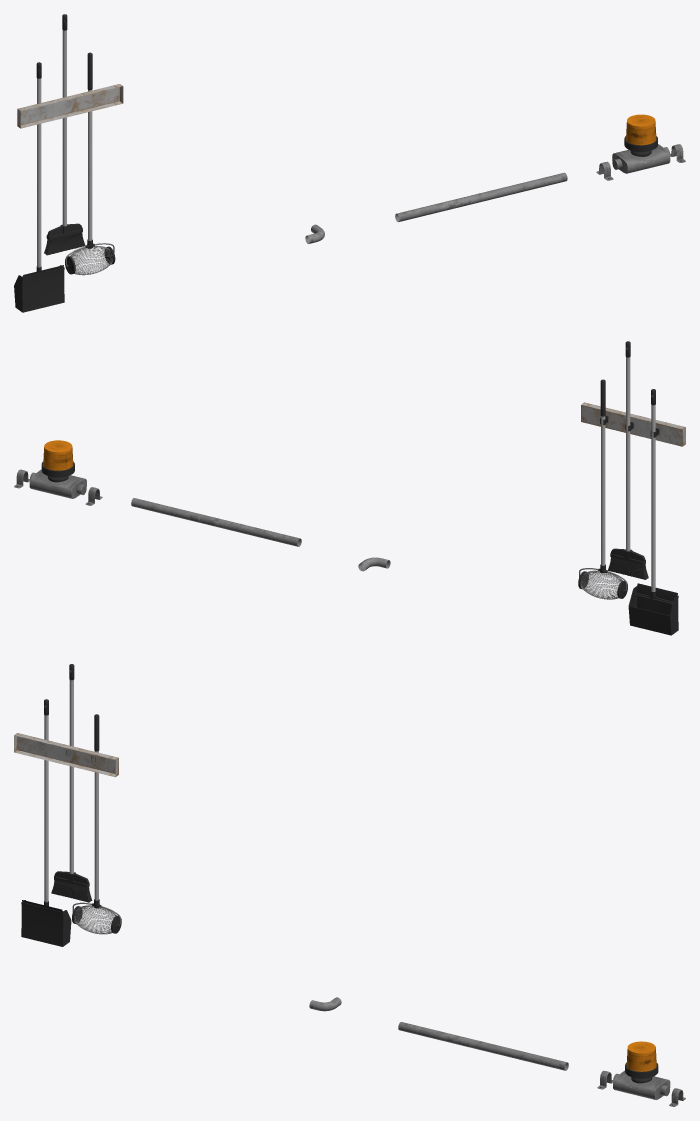
Rendered from shooting_tools.glb.
3 renders of one model, top to bottom at view 1: azimuth 30°, elevation 25°; view 2: azimuth 150°, elevation 25°; view 3: azimuth 330°, elevation 25°, orthographic.
Parts seen in each view (by area): view 1: ToolWallMount_Tools_0, HangingLamp_Tools_0, Broom_Tools_0, DustBin_Head_Tools_0, Pipe_Straight_Tools_0, BrassCollector_Head_Tools_0, BrassCollector_Handle_Tools_0, DustBin_Handle_Tools_0; view 2: HangingLamp_Tools_0, ToolWallMount_Tools_0, DustBin_Head_Tools_0, Broom_Tools_0, Pipe_Straight_Tools_0, DustBin_Handle_Tools_0, BrassCollector_Handle_Tools_0, BrassCollector_Head_Tools_0; view 3: ToolWallMount_Tools_0, HangingLamp_Tools_0, Broom_Tools_0, DustBin_Head_Tools_0, Pipe_Straight_Tools_0, BrassCollector_Head_Tools_0, BrassCollector_Handle_Tools_0, DustBin_Handle_Tools_0.
Boxes of the visible parts, left/top/right/bottom form: ToolWallMount_Tools_0: left=17, top=84, right=123, bottom=128; HangingLamp_Tools_0: left=612, top=114, right=670, bottom=173; Broom_Tools_0: left=44, top=14, right=85, bottom=255; DustBin_Head_Tools_0: left=14, top=265, right=64, bottom=312; Pipe_Straight_Tools_0: left=395, top=172, right=567, bottom=222; BrassCollector_Head_Tools_0: left=65, top=246, right=115, bottom=275; BrassCollector_Handle_Tools_0: left=65, top=52, right=114, bottom=266; DustBin_Handle_Tools_0: left=17, top=62, right=41, bottom=286; HangingLamp_Tools_0: left=29, top=440, right=86, bottom=498; ToolWallMount_Tools_0: left=581, top=402, right=685, bottom=446; DustBin_Head_Tools_0: left=628, top=583, right=678, bottom=635; Broom_Tools_0: left=608, top=341, right=648, bottom=579; Pipe_Straight_Tools_0: left=131, top=498, right=301, bottom=546; DustBin_Handle_Tools_0: left=632, top=389, right=674, bottom=610; BrassCollector_Handle_Tools_0: left=579, top=379, right=627, bottom=590; BrassCollector_Head_Tools_0: left=578, top=570, right=627, bottom=599; ToolWallMount_Tools_0: left=14, top=733, right=118, bottom=777; HangingLamp_Tools_0: left=613, top=1041, right=670, bottom=1099; Broom_Tools_0: left=51, top=664, right=92, bottom=902; DustBin_Head_Tools_0: left=21, top=900, right=71, bottom=946; Pipe_Straight_Tools_0: left=398, top=1022, right=568, bottom=1070; BrassCollector_Head_Tools_0: left=72, top=905, right=121, bottom=934; BrassCollector_Handle_Tools_0: left=72, top=714, right=120, bottom=925; DustBin_Handle_Tools_0: left=44, top=699, right=67, bottom=920.
Size of the model in its own units: 4.44 by 1.86 by 0.2089.
Materials: 1 (1 with a texture image).
